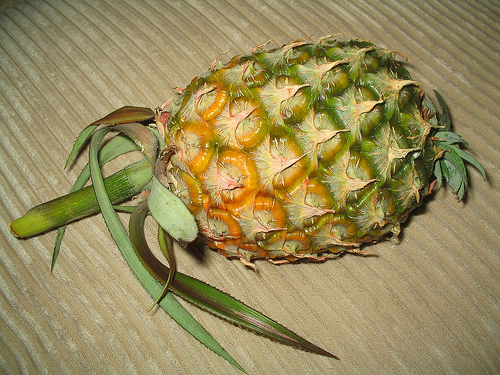pineapple: (8, 33, 489, 374)
